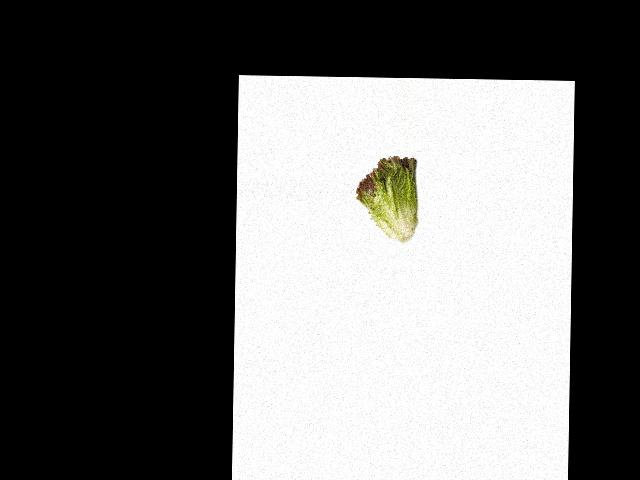lettuce: (356, 154, 417, 241)
